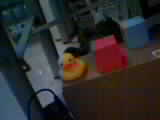duck: (46, 53, 84, 76)
